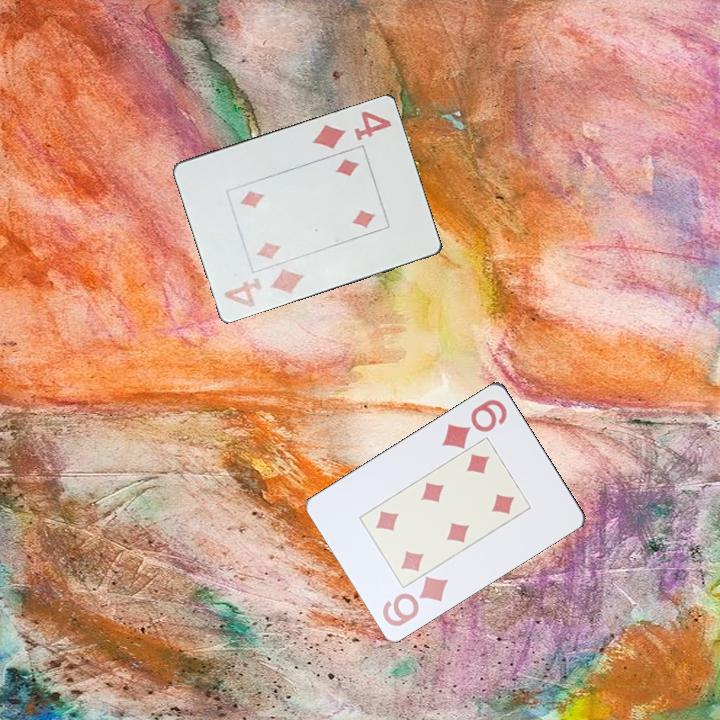4d: (220, 265, 307, 310), (309, 107, 395, 152)
6d: (379, 573, 452, 629), (438, 395, 510, 451)
